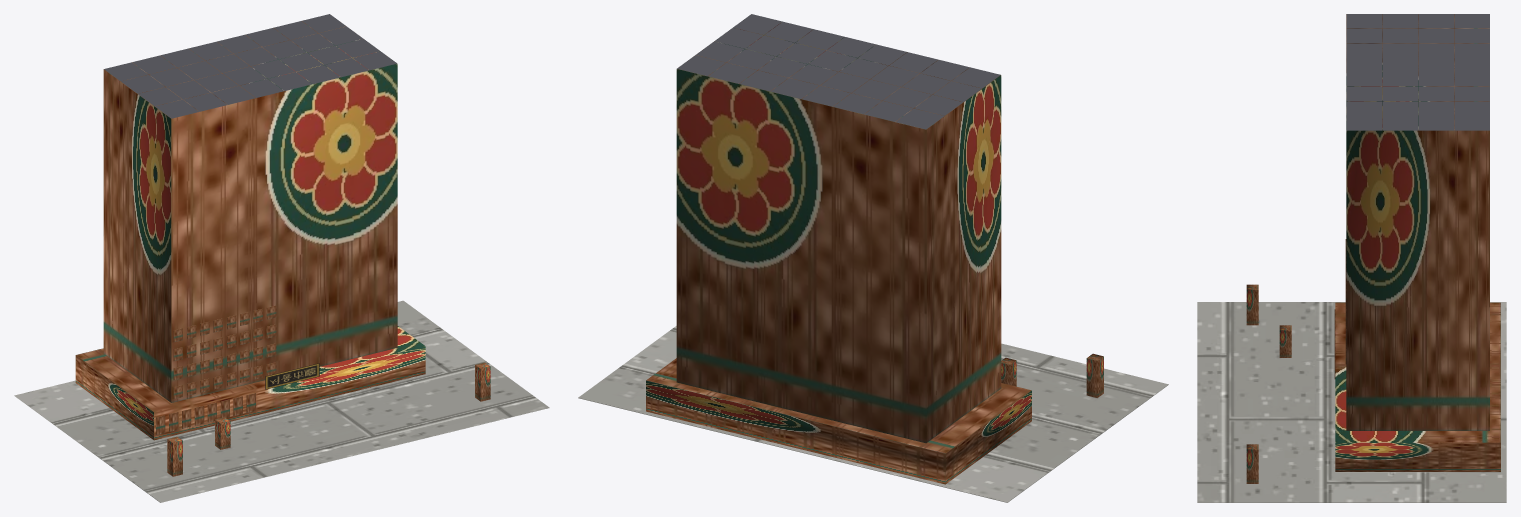
3 views of the same model, side by side, from view 1: azimuth 30°, elevation 25°; view 2: azimuth 150°, elevation 25°; view 3: azimuth 270°, elevation 25° (orthographic). The views are drawn at different scales.
Visible parts, largest first — view 1: 11140_02_04524_018_02_L2__body, 11140_02_04524_018_01_L2__base, 11140_02_04524_018_03_L2__roof, 11140_02_04524_018_05_L2__openings, 11140_02_04524_018_06_L2__green, 11140_02_04524_018_04_L2__sign; view 2: 11140_02_04524_018_02_L2__body, 11140_02_04524_018_03_L2__roof, 11140_02_04524_018_01_L2__base, 11140_02_04524_018_06_L2__green; view 3: 11140_02_04524_018_02_L2__body, 11140_02_04524_018_01_L2__base, 11140_02_04524_018_03_L2__roof, 11140_02_04524_018_06_L2__green, 11140_02_04524_018_05_L2__openings.
Part boxes in pixels (x1,y1,x2,y2): 11140_02_04524_018_02_L2__body: (75,21,425,440); 11140_02_04524_018_01_L2__base: (14,300,549,502); 11140_02_04524_018_03_L2__roof: (104,14,396,118); 11140_02_04524_018_05_L2__openings: (156,305,276,434); 11140_02_04524_018_06_L2__green: (167,362,490,476); 11140_02_04524_018_04_L2__sign: (265,363,319,389); 11140_02_04524_018_02_L2__body: (646,21,1031,484); 11140_02_04524_018_03_L2__roof: (677,14,1000,129); 11140_02_04524_018_01_L2__base: (578,326,1168,502); 11140_02_04524_018_06_L2__green: (1001,353,1103,397); 11140_02_04524_018_02_L2__body: (1335,14,1500,471); 11140_02_04524_018_01_L2__base: (1197,302,1506,502); 11140_02_04524_018_03_L2__roof: (1346,14,1489,130); 11140_02_04524_018_06_L2__green: (1246,284,1291,483); 11140_02_04524_018_05_L2__openings: (1334,239,1346,378).
Size of the model in its own units: 86 by 66.02 by 56.
5 materials, 5 textured.
